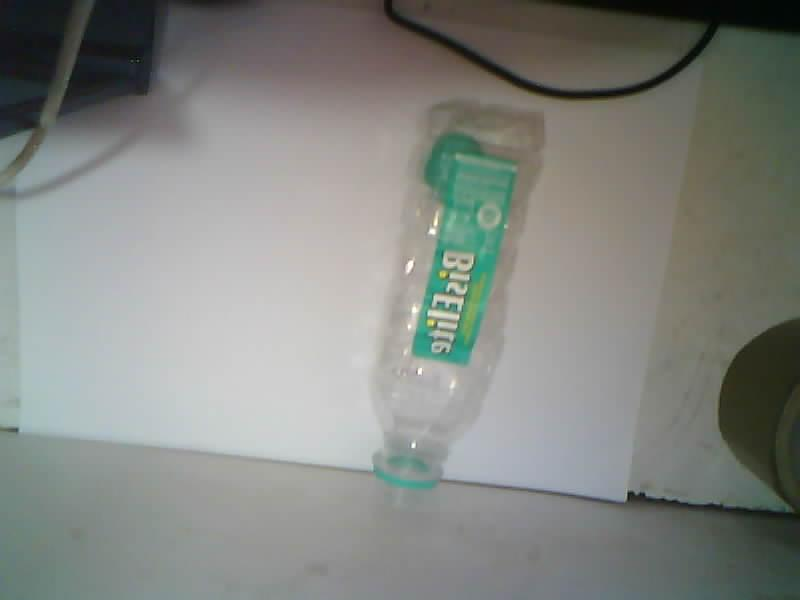non-biodegradable: (371, 104, 543, 498)
